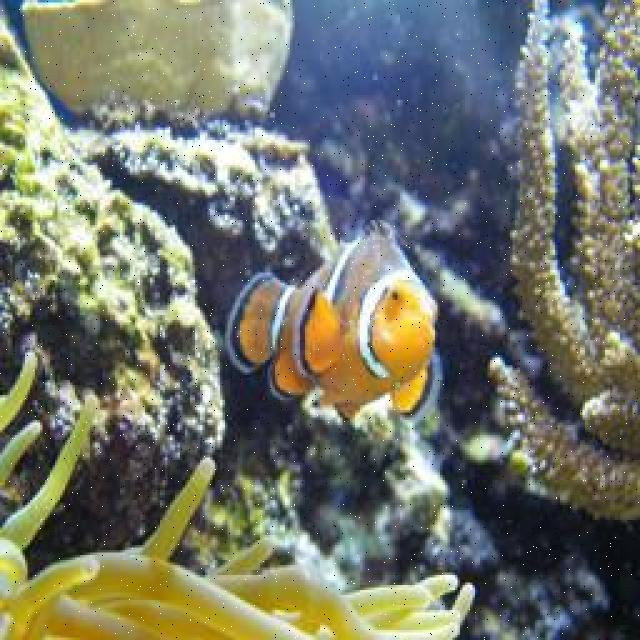fish: (226, 216, 440, 413)
reefs: (0, 389, 477, 638), (485, 0, 638, 530), (22, 0, 298, 133)
